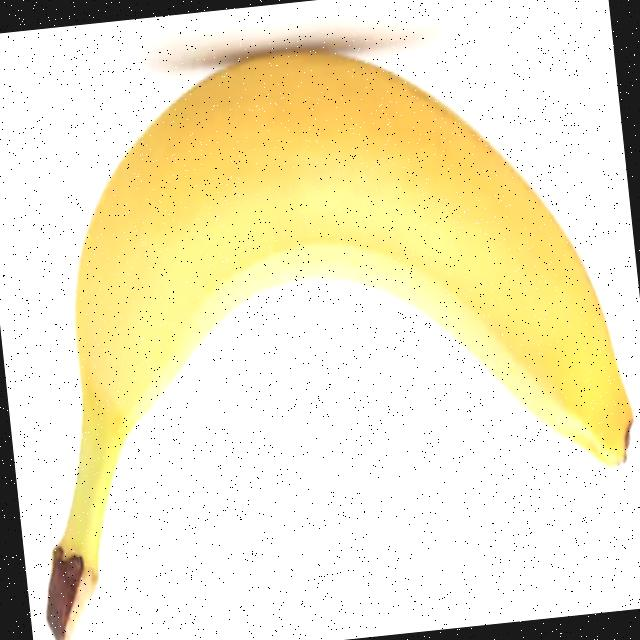Ripe: (24, 12, 640, 597)
